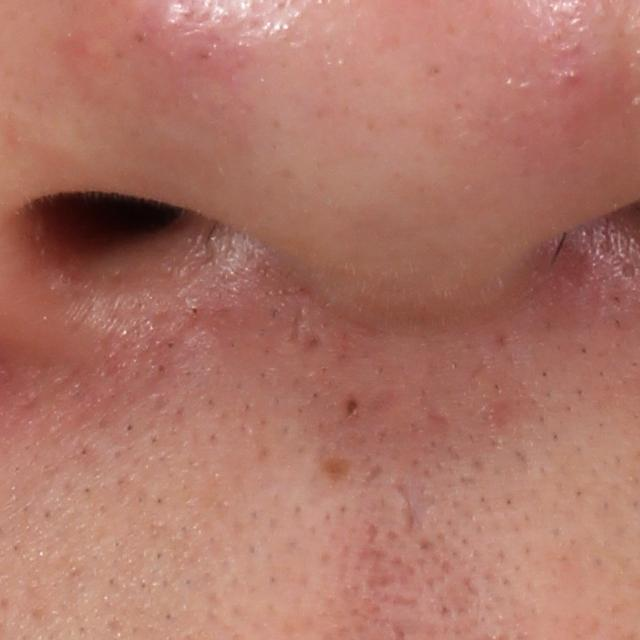atrophic_scar: (394, 478, 420, 538), (319, 452, 352, 485), (361, 462, 385, 490), (422, 407, 453, 425), (390, 596, 422, 610), (462, 576, 482, 598), (344, 391, 358, 421), (367, 520, 378, 548)
